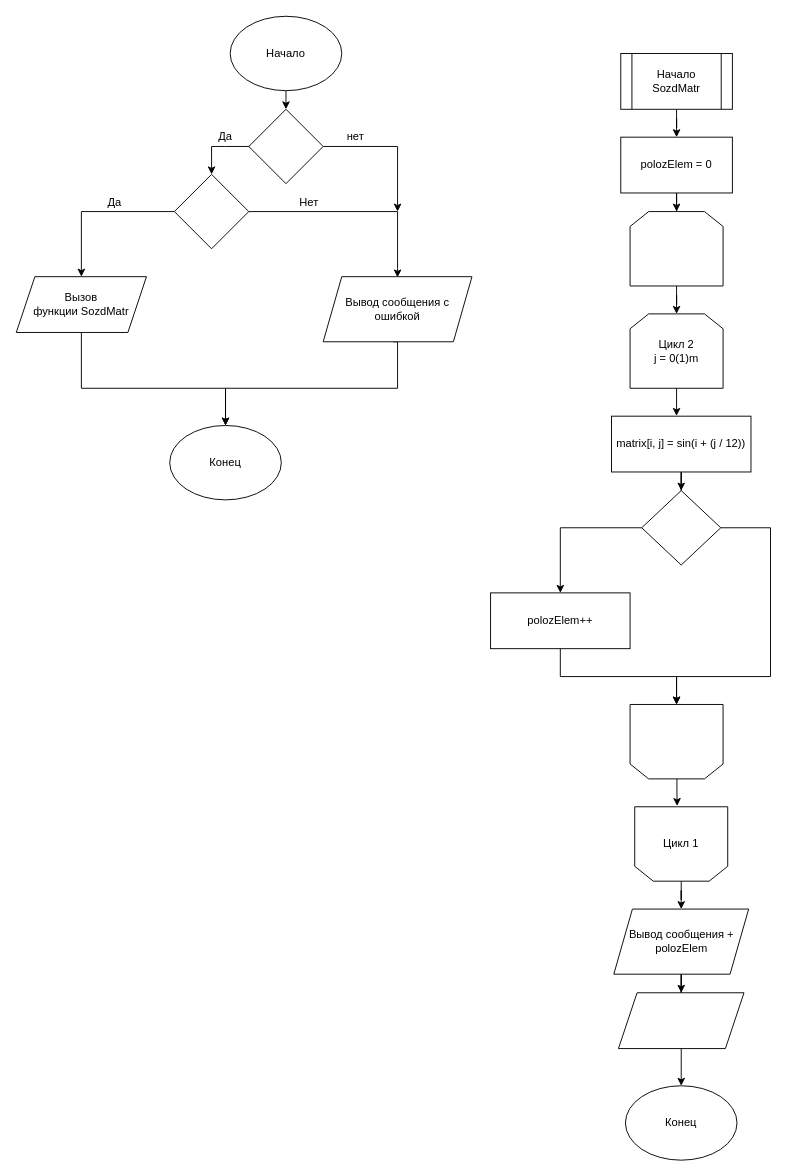
Image size: 794x1176. Some labels were removed from this diagram. The centre of each missing label's shape, as x and y in pixels:
"m - число?" goes at (x=211, y=211).
"matrix[i, j] > 0" goes at (x=681, y=527).
"n - число?" goes at (x=285, y=146).
"Возврат матрицы" goes at (x=681, y=1020).
"Цикл 1 i = 0(1)n" goes at (x=676, y=248).
"Цикл 2" goes at (x=676, y=741).
